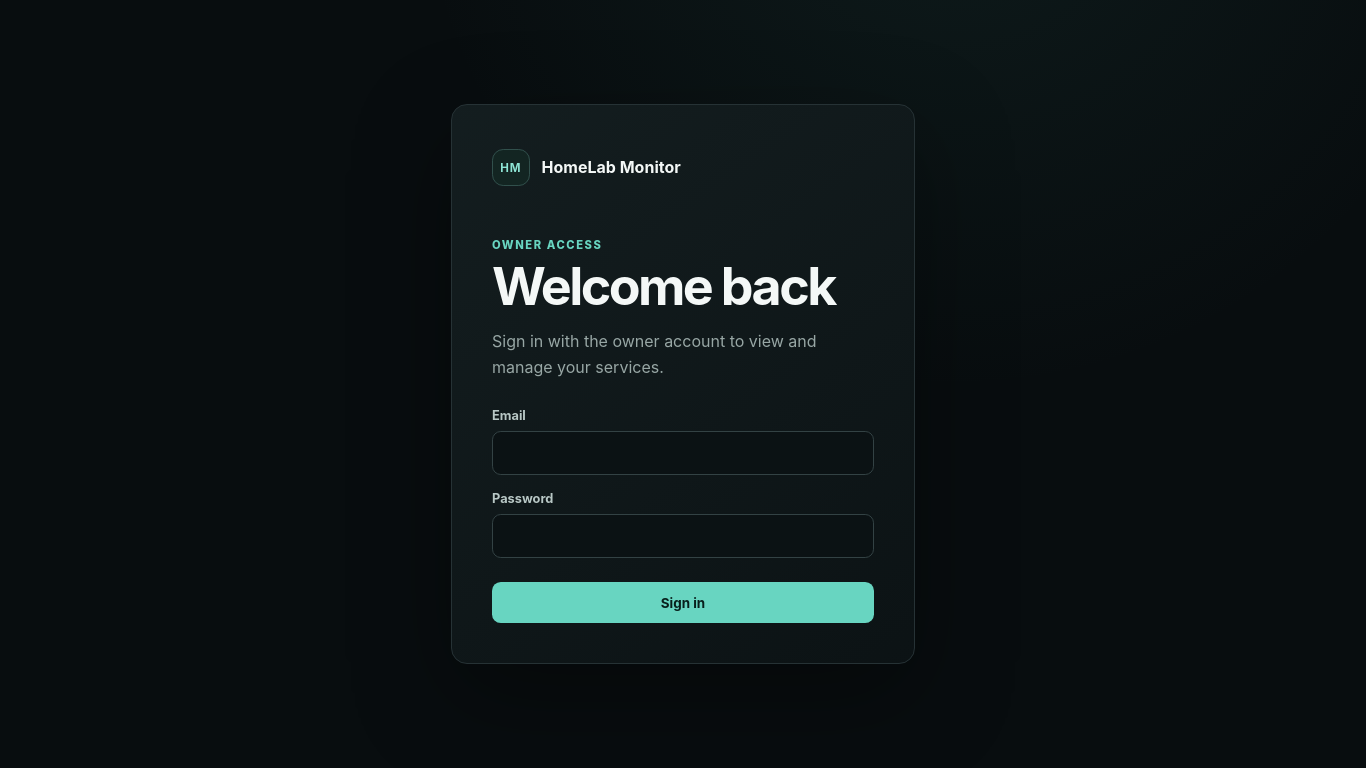
Scenario: monitoring dashboard › refreshes an expired session CSRF token and retries login once
Type "owner@example.com" into the field labelled "Email" at (683, 453), box x1=492 y1=431 x2=874 y2=475
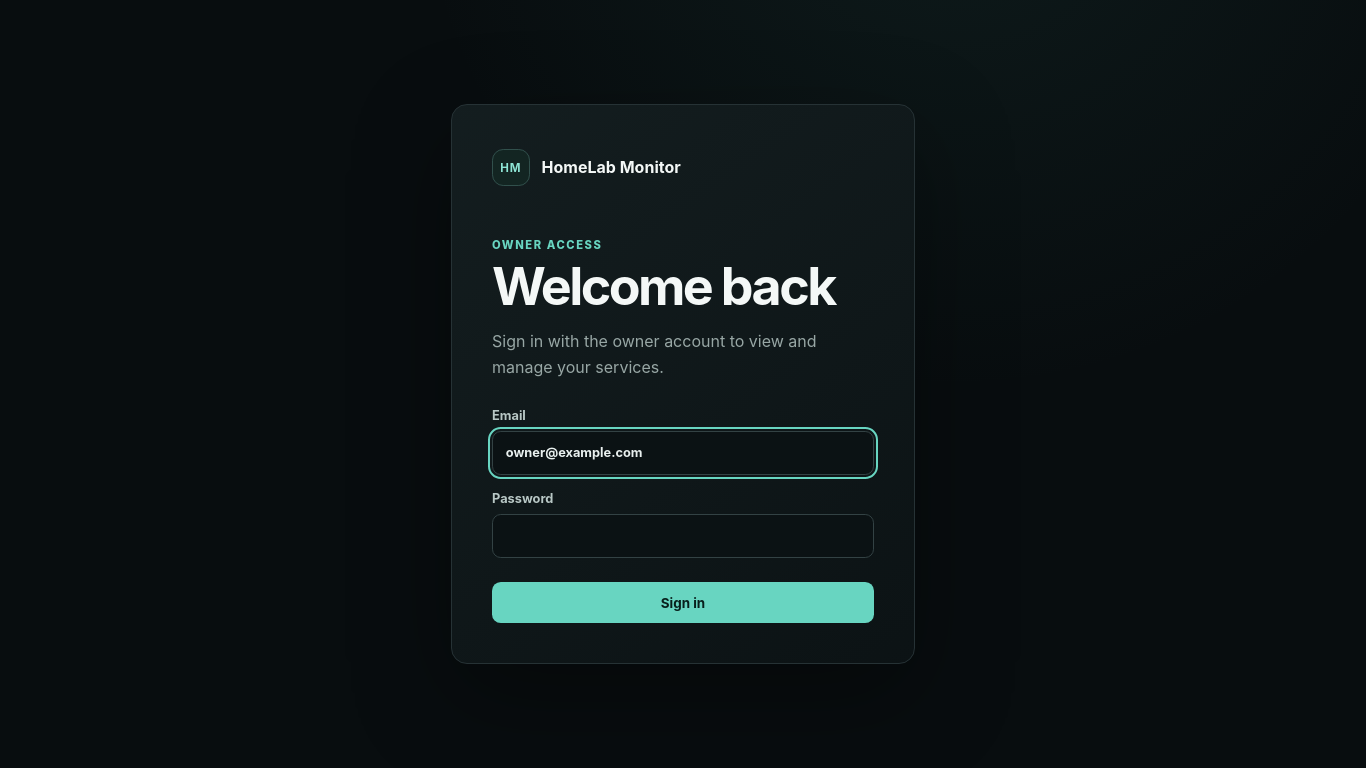
Type "correct horse battery staple" into the password field labelled "Password" at (683, 536), box x1=492 y1=514 x2=874 y2=558
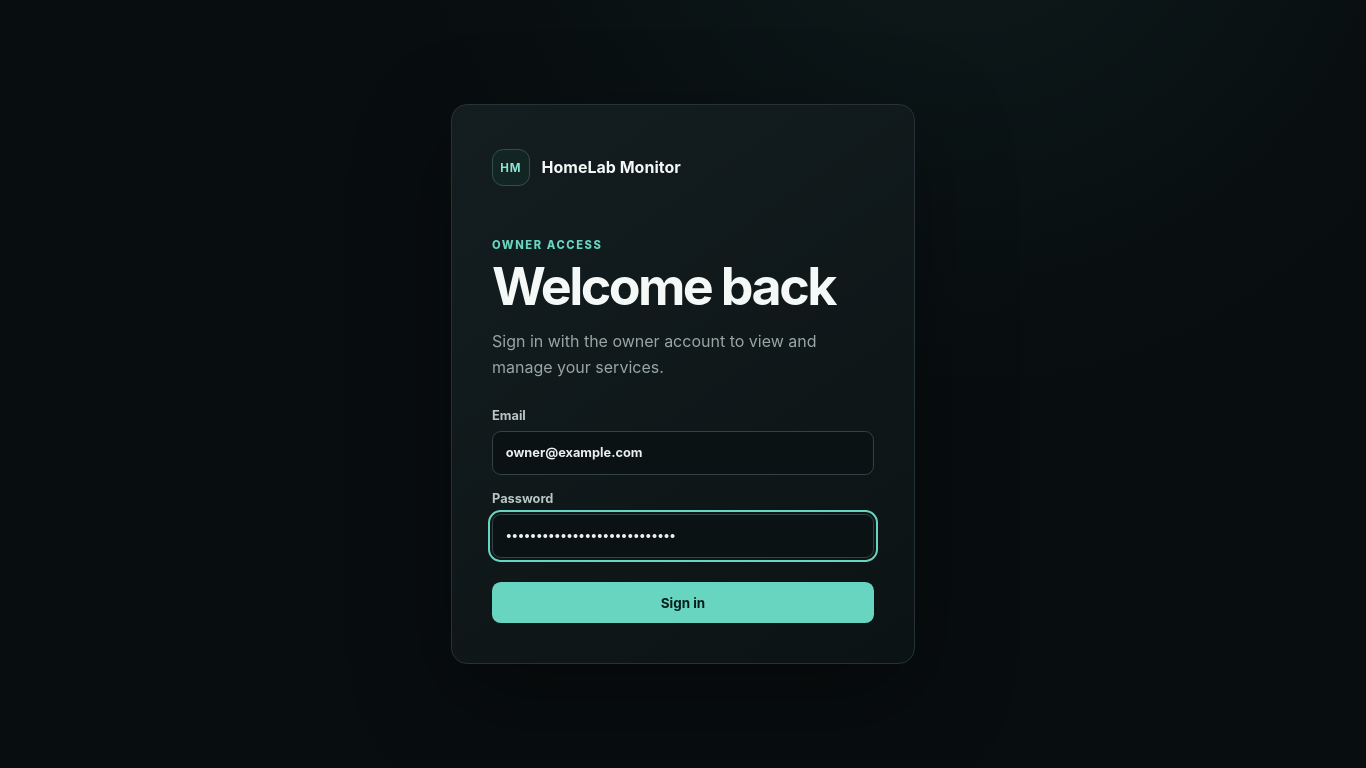
Click the button "Sign in" at (683, 603), box x1=492 y1=582 x2=874 y2=623
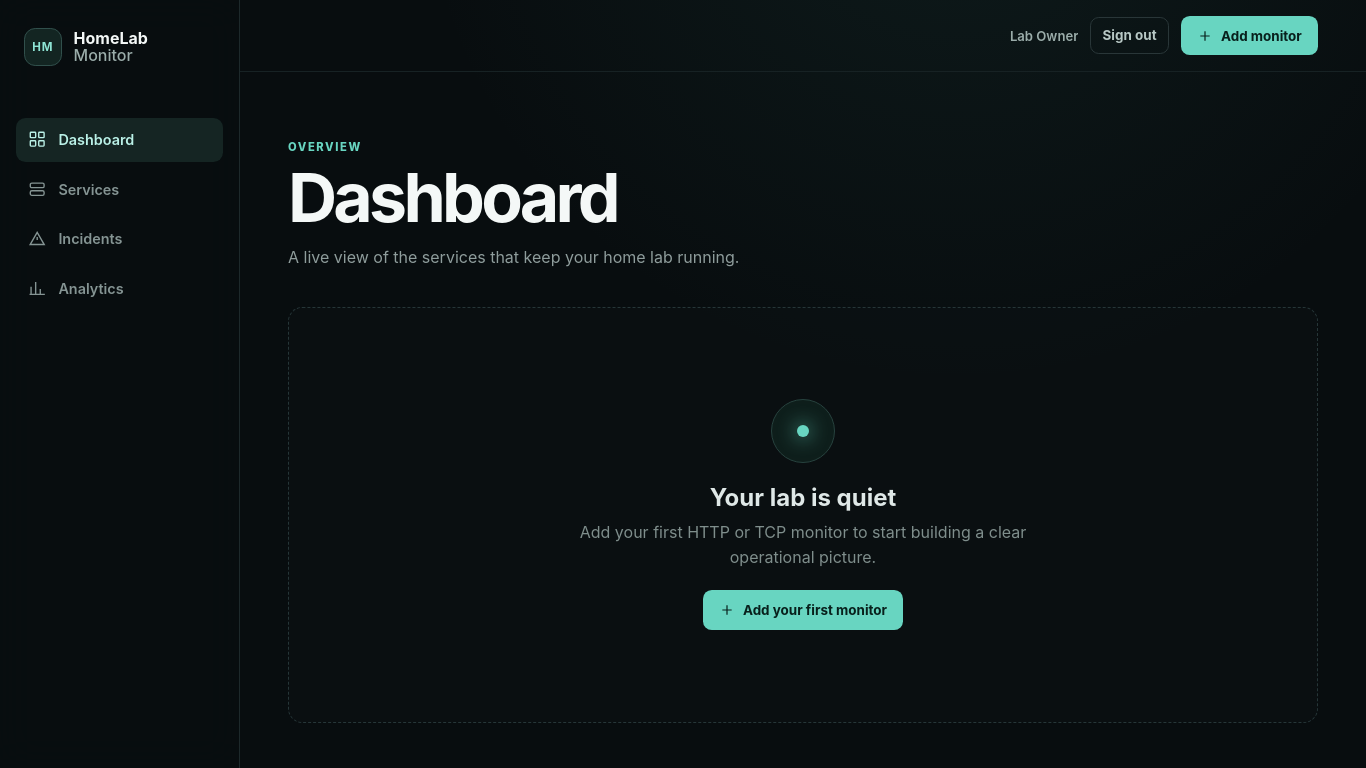
Check: the heading "Dashboard" is shown, box x1=288 y1=156 x2=617 y2=238
